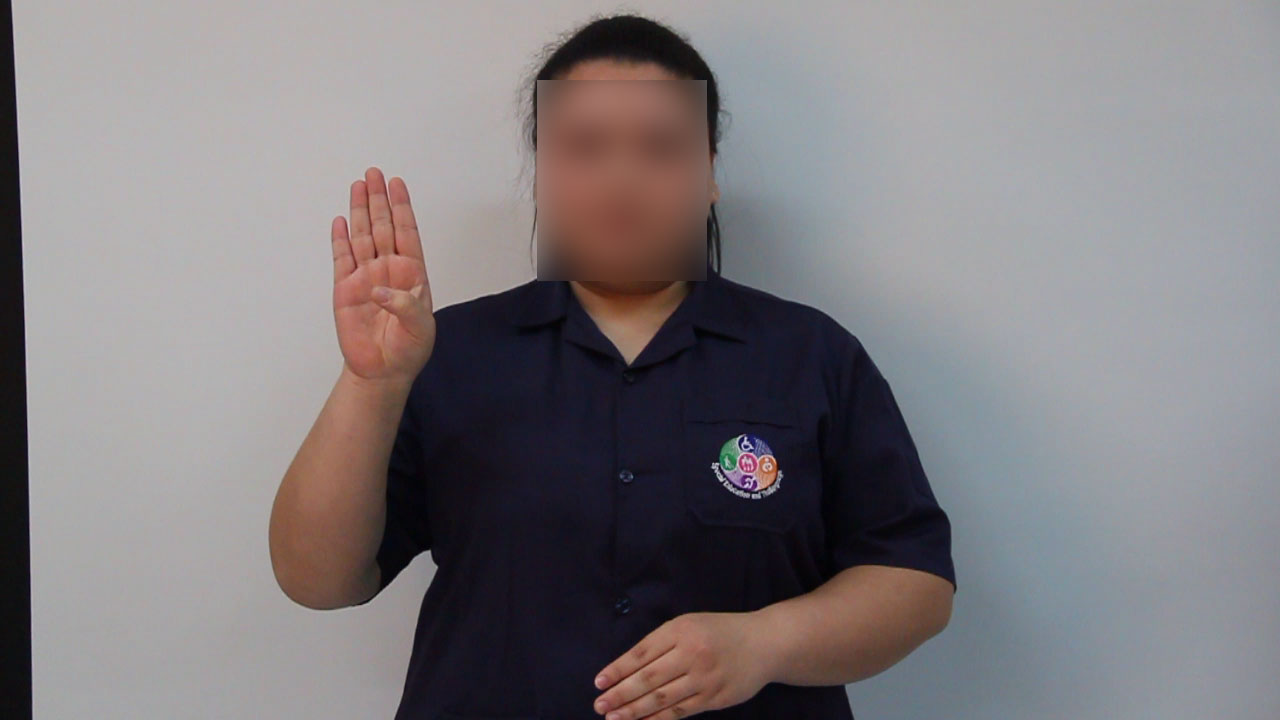bor: (300, 141, 468, 408)
